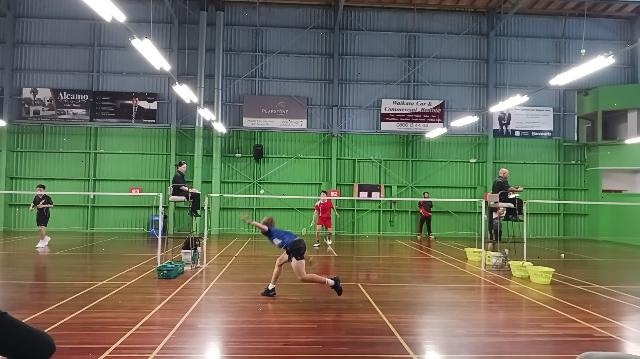Shuttlecock: (258, 187, 268, 195)
